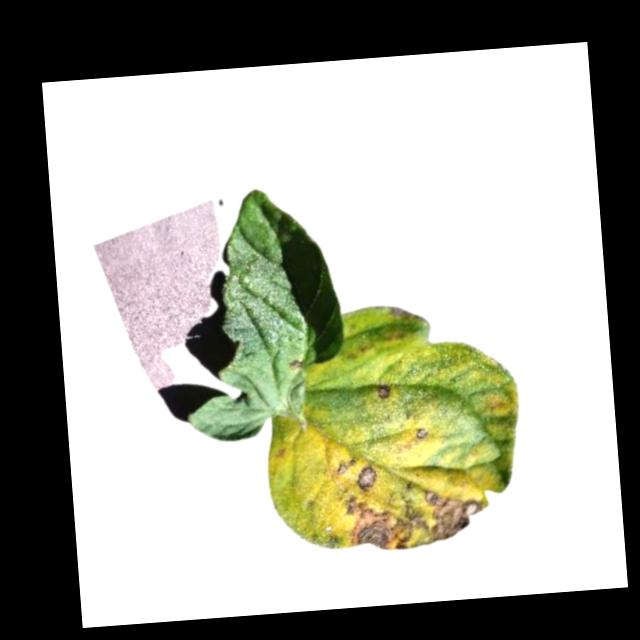Early_blight: (340, 485, 489, 556), (333, 456, 360, 477), (356, 472, 376, 495), (374, 385, 390, 401), (288, 357, 303, 371), (416, 430, 428, 443)
